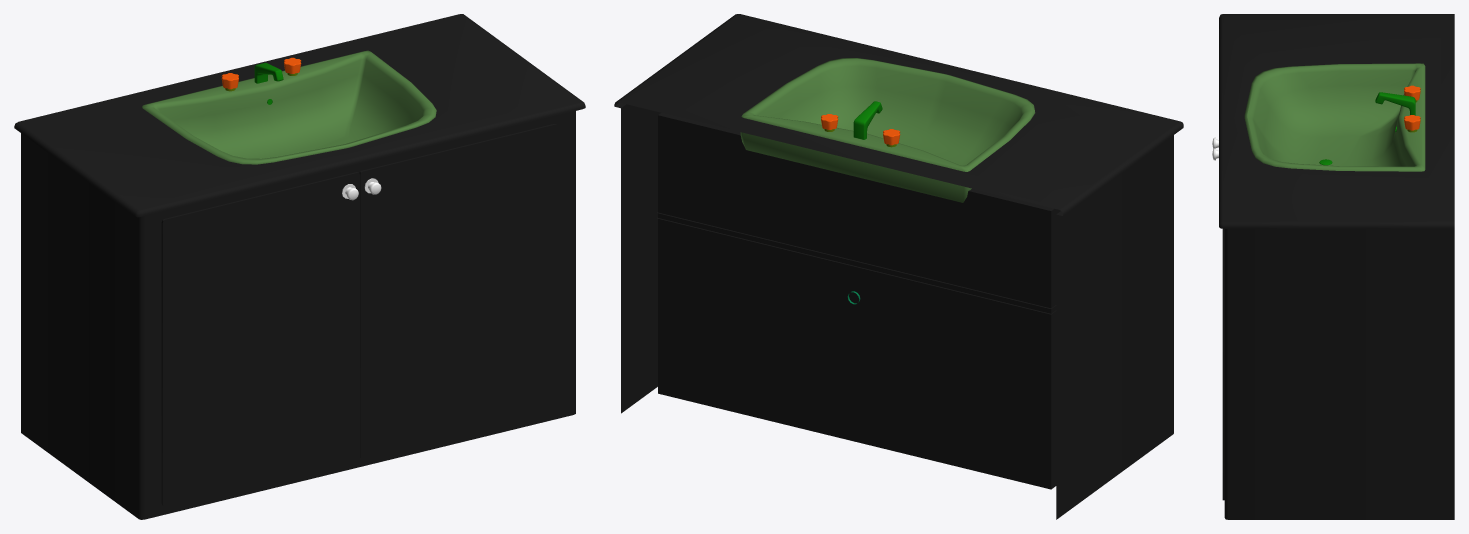
The model's file is SM_Bathroom_Sink.fbx.
3 views of the same model, side by side, from view 1: azimuth 30°, elevation 25°; view 2: azimuth 150°, elevation 25°; view 3: azimuth 270°, elevation 25° (orthographic). The views are drawn at different scales.
Visible parts, largest first — view 1: SM_Bathroom_Sink, SM_Bathroom_Sink_Door_01, SM_Bathroom_Sink_Door_02; view 2: SM_Bathroom_Sink; view 3: SM_Bathroom_Sink, SM_Bathroom_Sink_Door_02.
Boxes of the visible parts, box(x1,y1,x2,y2) form: SM_Bathroom_Sink: box(14, 14, 585, 519); SM_Bathroom_Sink_Door_01: box(161, 172, 359, 506); SM_Bathroom_Sink_Door_02: box(359, 124, 557, 457); SM_Bathroom_Sink: box(614, 14, 1183, 519); SM_Bathroom_Sink: box(1219, 14, 1454, 519); SM_Bathroom_Sink_Door_02: box(1212, 148, 1224, 500).
Size of the model in its own units: 174 by 125 by 84.35.
